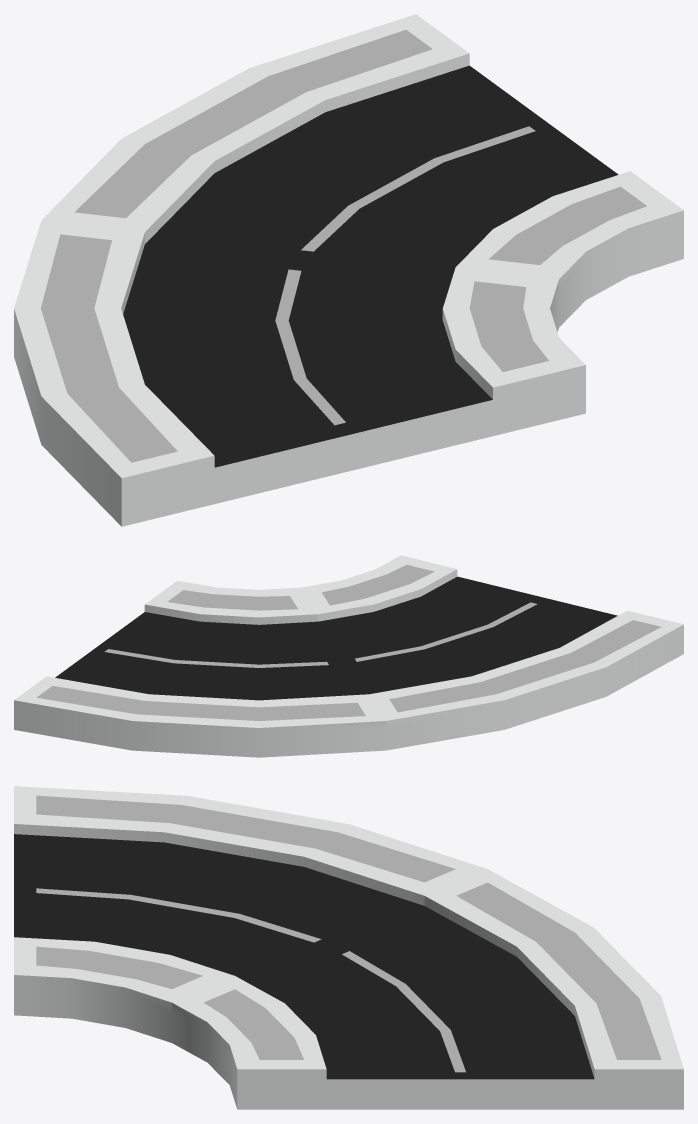
File: duong cong 3.fbx
3 renders of one model, top to bottom at view 1: azimuth 30°, elevation 25°; view 2: azimuth 150°, elevation 25°; view 3: azimuth 270°, elevation 25°, orthographic. The views are drawn at different scales.
Visible parts, largest first — view 1: duong_cong_3; view 2: duong_cong_3; view 3: duong_cong_3.
Boxes of the visible parts, box(x1,y1,x2,y2) form: duong_cong_3: box(14, 14, 683, 526); duong_cong_3: box(14, 555, 683, 757); duong_cong_3: box(14, 786, 683, 1109).
Bounding box in the file's own units: 30 × 2 × 30.
1 material, 1 textured.
